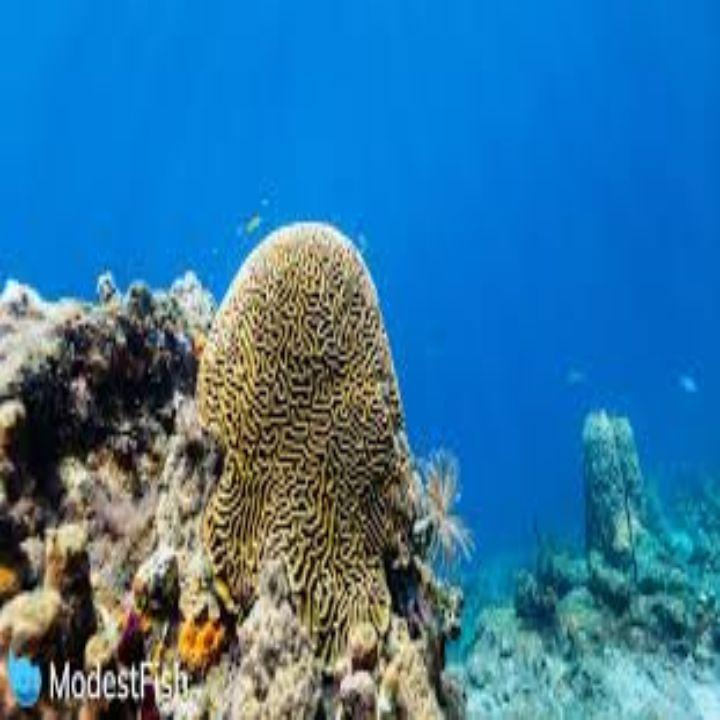Healthy Coral: (198, 222, 457, 663)
